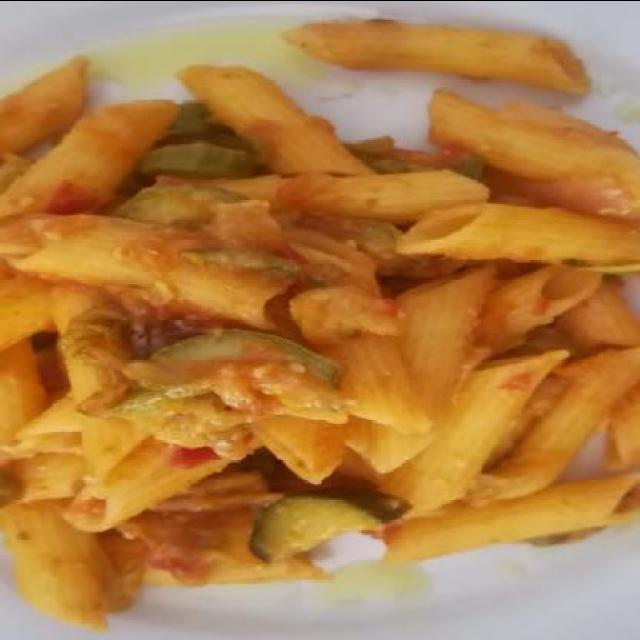Pasta al ragu: (20, 28, 618, 600)
